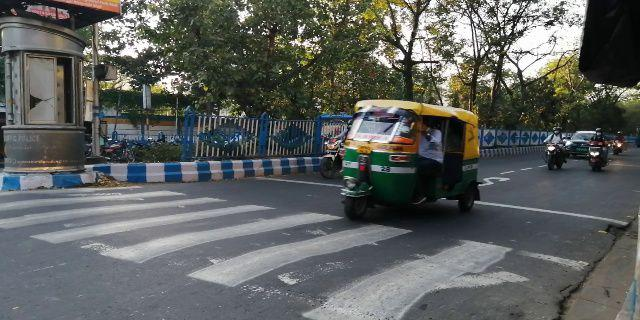Autorickshaw: (334, 90, 486, 231)
Car: (563, 127, 593, 157)
Motorbike: (541, 121, 567, 170), (582, 129, 612, 171)
